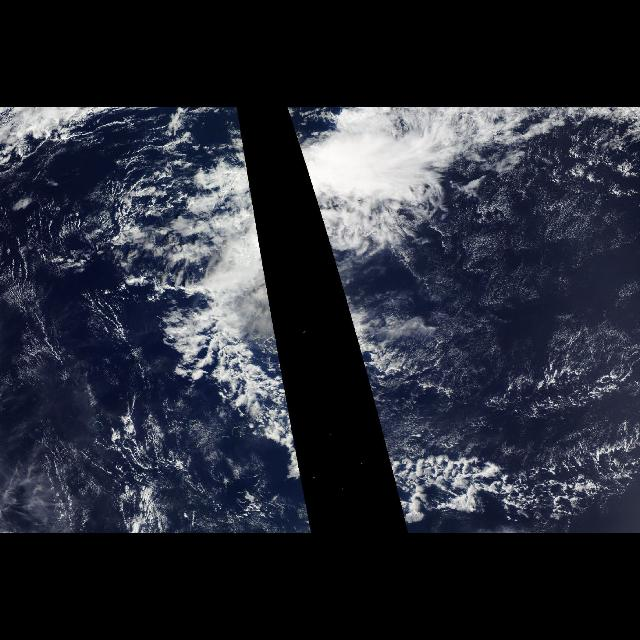Fish: (344, 296, 636, 534), (140, 296, 314, 534)
Gravel: (397, 439, 631, 531)
Sugar: (1, 205, 191, 533), (442, 168, 640, 430)
